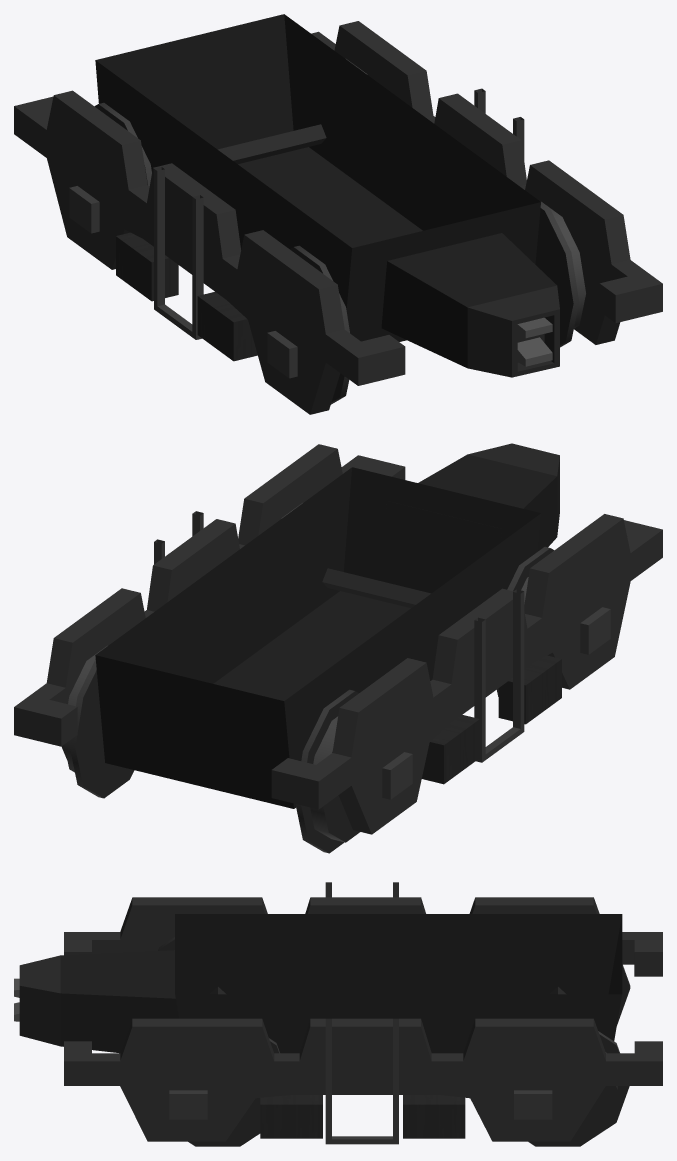
Rendered from SW_VEH_Train_Wheels.fbx.
The picture shows the model from 3 angles, top to bottom: view 1: azimuth 30°, elevation 25°; view 2: azimuth 150°, elevation 25°; view 3: azimuth 270°, elevation 25°; orthographic projection. The views are drawn at different scales.
Parts seen in each view (by area): view 1: SW_VEH_Train_Wheels; view 2: SW_VEH_Train_Wheels; view 3: SW_VEH_Train_Wheels.
Part boxes in pixels (box(x1,y1,x2,y2)): SW_VEH_Train_Wheels: box(14, 14, 662, 414); SW_VEH_Train_Wheels: box(14, 443, 662, 853); SW_VEH_Train_Wheels: box(14, 882, 662, 1146).
Bounding box in the file's own units: 1.91 × 0.9307 × 3.76.
